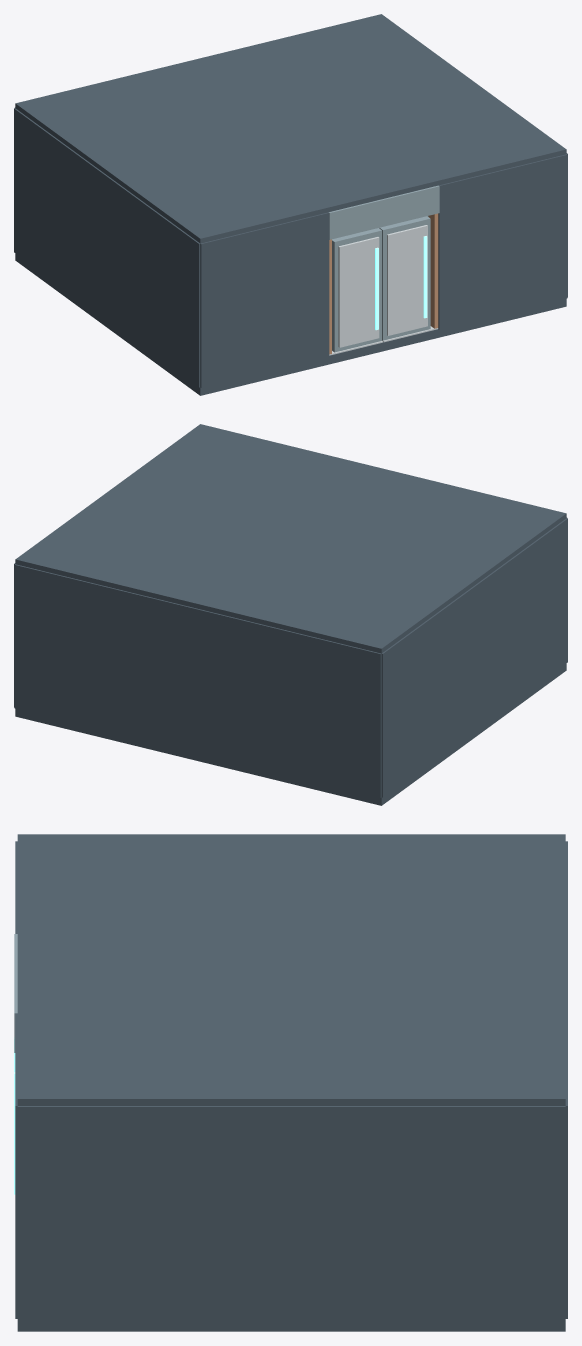
File: medbay_assembled.glb
The picture shows the model from 3 angles, top to bottom: view 1: azimuth 30°, elevation 25°; view 2: azimuth 150°, elevation 25°; view 3: azimuth 270°, elevation 25°; orthographic projection. The views are drawn at different scales.
Visible parts, largest first — view 1: ceiling_dark_0, walls_dark_0, walls_dark_23, walls_dark_25, floor_dark_0, left_door_ivory_1, right_door_ivory_1, walls_steel_27, left_door_steel_0, right_door_steel_0, walls_copper_30; view 2: ceiling_dark_0, walls_dark_18, walls_dark_0, floor_dark_0; view 3: ceiling_dark_0, walls_dark_9, floor_dark_0, walls_dark_18, walls_dark_25.
Part boxes in pixels (x1,y1,x2,y2): ceiling_dark_0: (15, 14, 566, 243); walls_dark_0: (14, 108, 200, 387); walls_dark_23: (200, 212, 329, 387); walls_dark_25: (438, 154, 567, 329); floor_dark_0: (15, 253, 566, 395); left_door_ivory_1: (338, 237, 379, 347); right_door_ivory_1: (387, 225, 427, 335); walls_steel_27: (329, 185, 439, 239); left_door_steel_0: (332, 228, 381, 352); right_door_steel_0: (379, 216, 430, 340); walls_copper_30: (428, 213, 438, 328); ceiling_dark_0: (15, 424, 566, 653); walls_dark_18: (14, 564, 381, 797); walls_dark_0: (381, 518, 567, 797); floor_dark_0: (15, 663, 566, 805); ceiling_dark_0: (17, 834, 565, 1105); walls_dark_9: (17, 1106, 565, 1319); floor_dark_0: (17, 1320, 565, 1331); walls_dark_18: (565, 841, 567, 1318); walls_dark_25: (15, 1013, 17, 1318).
Size of the model in its own units: 8.06 by 3.28 by 7.08.
